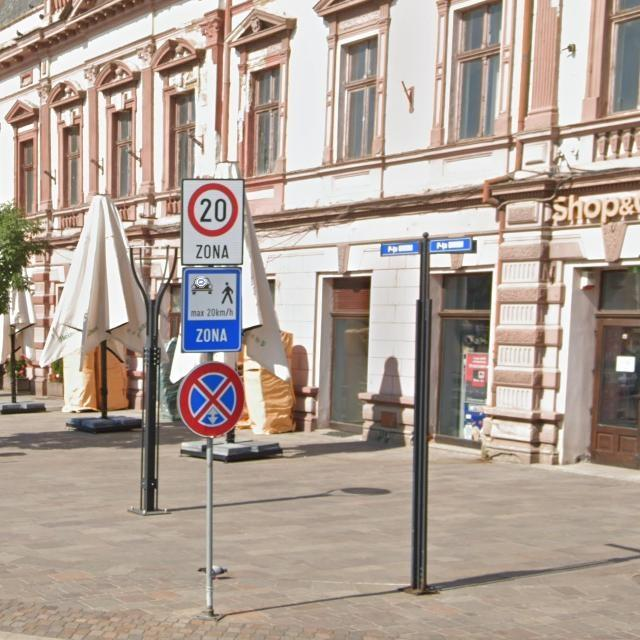forb_speed_over_20: (188, 181, 239, 238)
forb_waiting: (178, 361, 246, 438)
